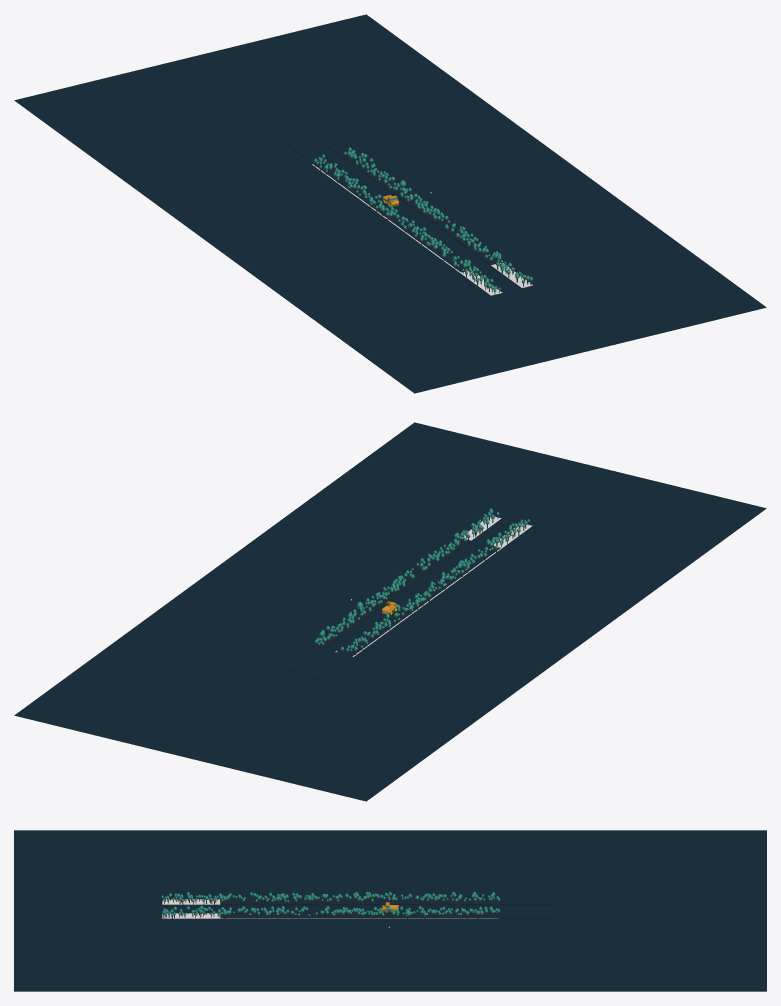
Rendered from car.glb.
3 views of the same model, one above another, from view 1: azimuth 30°, elevation 25°; view 2: azimuth 150°, elevation 25°; view 3: azimuth 270°, elevation 25° (orthographic). The views are drawn at different scales.
Parts seen in each view (by area): view 1: 平面, 平面.002, 平面.001; view 2: 平面, 平面.002, 平面.001; view 3: 平面, 平面.002, 平面.001, 平面.005.
Boxes of the visible parts, x1=… form: 平面: x1=14, y1=14, x2=766, y2=393; 平面.002: x1=311, y1=131, x2=500, y2=265; 平面.001: x1=282, y1=138, x2=472, y2=272; 平面: x1=14, y1=422, x2=766, y2=801; 平面.002: x1=280, y1=538, x2=471, y2=671; 平面.001: x1=309, y1=545, x2=500, y2=679; 平面: x1=14, y1=830, x2=766, y2=991; 平面.002: x1=220, y1=912, x2=557, y2=918; 平面.001: x1=220, y1=899, x2=557, y2=904; 平面.005: x1=162, y1=913, x2=498, y2=918.
Size of the model in its own units: 476 by 18.04 by 937.
